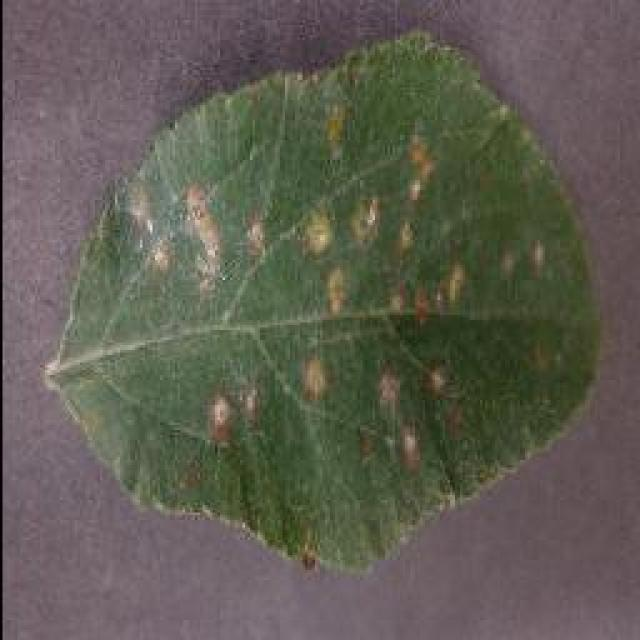apple rust disease: (45, 28, 603, 572)
